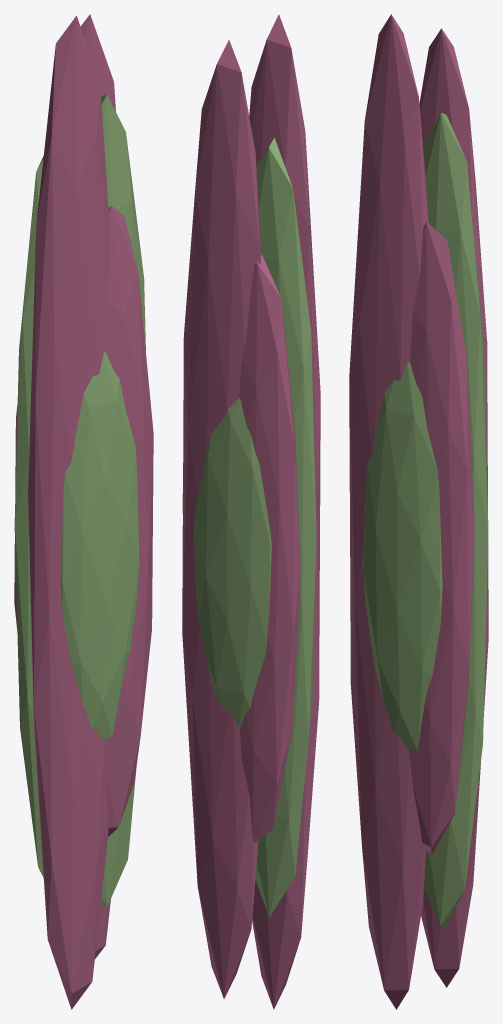
Rendered from cordyline-fruticosa.glb.
The picture shows the model from 3 angles, left to right: view 1: azimuth 30°, elevation 25°; view 2: azimuth 150°, elevation 25°; view 3: azimuth 330°, elevation 25°; orthographic projection.
Visible parts, largest first — view 1: blade3, blade2, blade1, blade4, blade0, blade7; view 2: blade7, blade5, blade4, blade6, blade3; view 3: blade3, blade1, blade2, blade0, blade7.
Part boxes in pixels (x1=…): blade3: x1=28, y1=15, x2=110, y2=1009; blade2: x1=60, y1=351, x2=139, y2=739; blade1: x1=103, y1=206, x2=153, y2=836; blade4: x1=14, y1=155, x2=43, y2=877; blade0: x1=100, y1=94, x2=145, y2=907; blade7: x1=80, y1=14, x2=115, y2=958; blade7: x1=182, y1=39, x2=261, y2=998; blade5: x1=239, y1=254, x2=300, y2=842; blade4: x1=255, y1=137, x2=316, y2=916; blade6: x1=194, y1=398, x2=271, y2=727; blade3: x1=249, y1=14, x2=320, y2=1009; blade3: x1=349, y1=14, x2=428, y2=1009; blade1: x1=409, y1=222, x2=474, y2=855; blade2: x1=363, y1=362, x2=442, y2=750; blade0: x1=423, y1=113, x2=488, y2=927; blade7: x1=419, y1=28, x2=488, y2=987.
Bounding box in the file's own units: 0.09 × 0.6367 × 0.0533.
